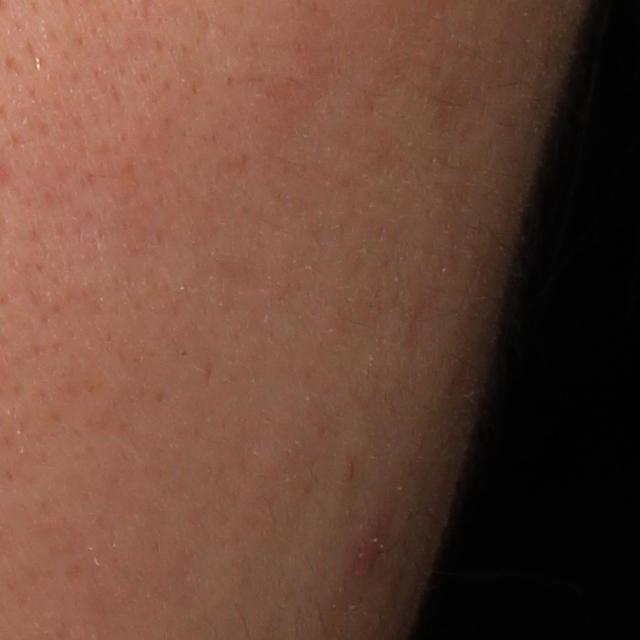papule: (350, 528, 387, 574)
